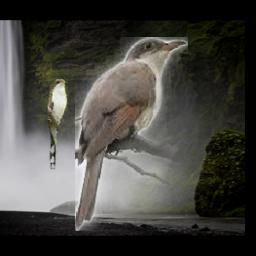Cuckoo: (75, 37, 188, 231), (47, 80, 67, 170)
